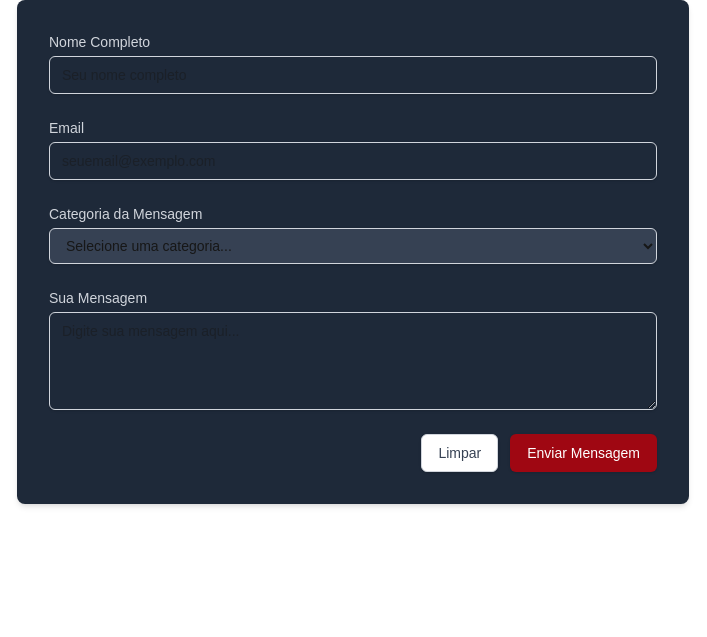
Test: FormContato Component › Validação de Erros › deve exibir mensagens de erro para todos os campos obrigatórios ao submeter formulário vazio
The width and height of the screenshot is (707, 637).
Click the button "Enviar Mensagem".
click(584, 453)  # box left=510, top=434, right=657, bottom=472
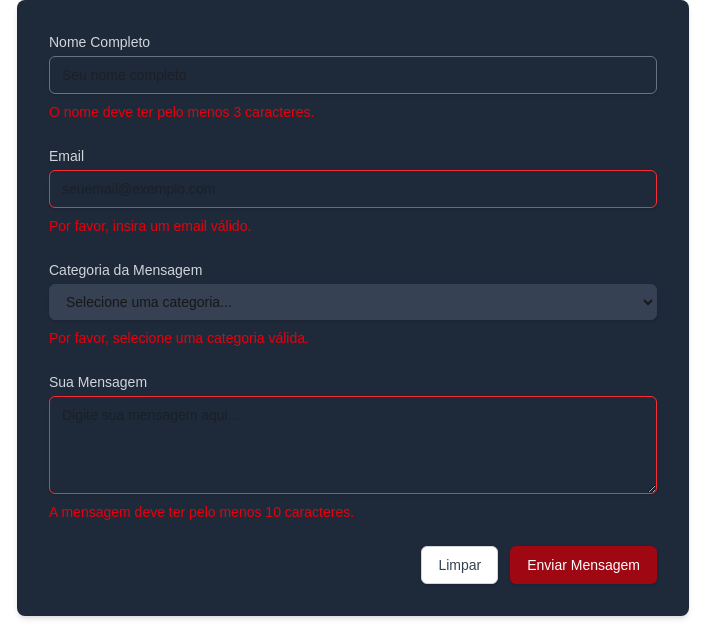
Result: the text "O nome deve ter pelo menos 3 caracteres." is shown at left=49, top=104, right=314, bottom=120
Result: the text "Por favor, insira um email válido." is shown at left=49, top=218, right=251, bottom=234
Result: the text "Por favor, selecione uma categoria válida." is shown at left=49, top=330, right=309, bottom=346
